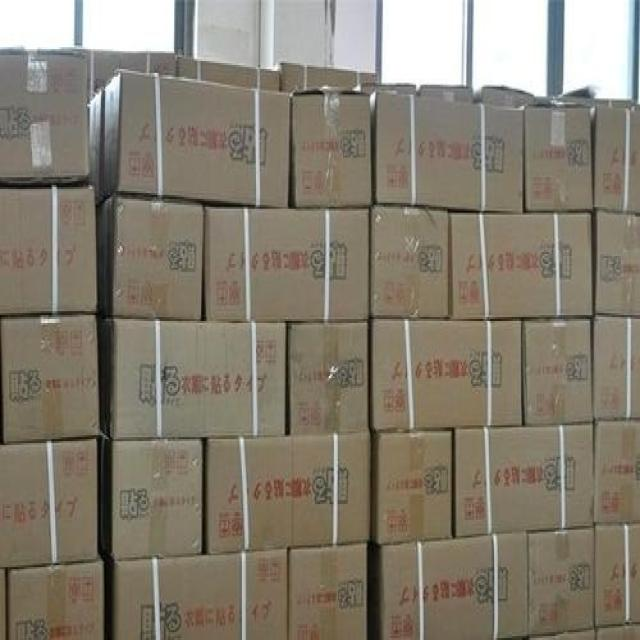box: (90, 70, 290, 207), (99, 317, 287, 439), (206, 433, 370, 554), (369, 88, 525, 215), (205, 202, 368, 320), (370, 319, 522, 432), (99, 548, 288, 638), (369, 531, 528, 637), (455, 425, 595, 539), (451, 213, 593, 319), (95, 193, 204, 317), (98, 432, 204, 558), (0, 439, 97, 566), (0, 187, 96, 313), (3, 316, 99, 442), (1, 52, 89, 180), (291, 88, 372, 207), (370, 432, 452, 546), (369, 209, 450, 317), (290, 322, 367, 435), (528, 527, 597, 637), (524, 318, 594, 425), (289, 543, 367, 638), (8, 562, 105, 638), (526, 105, 593, 210), (590, 105, 639, 213), (591, 207, 639, 317), (593, 317, 639, 422), (595, 421, 639, 524), (597, 524, 639, 627)
